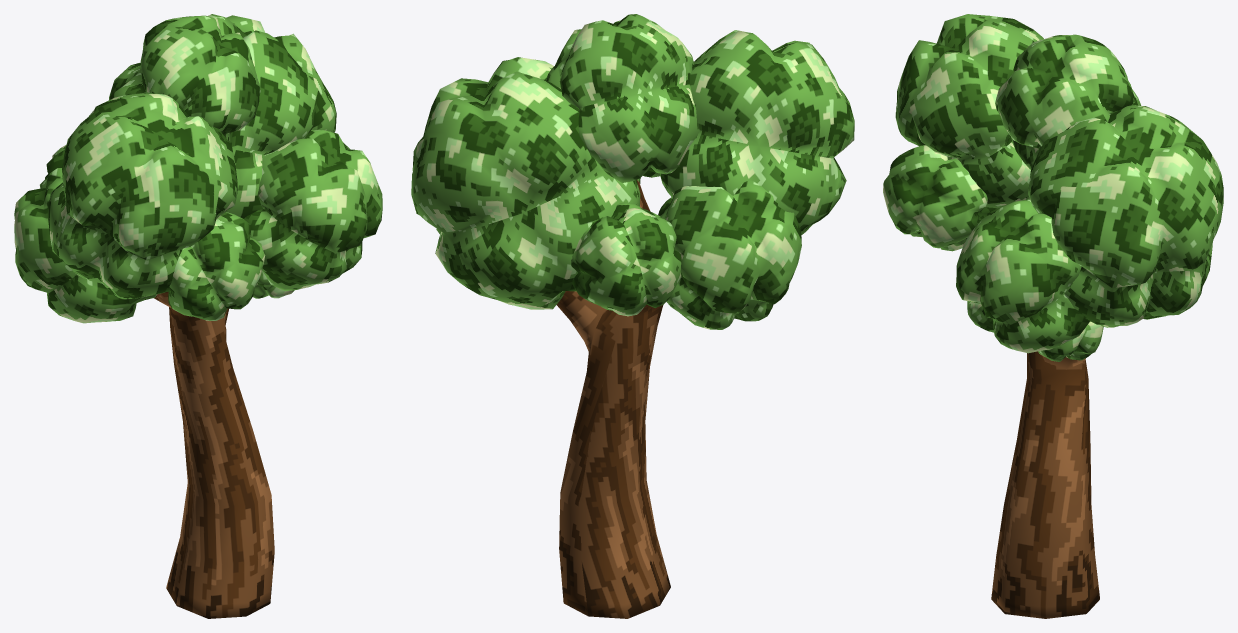
Rendered from (Old)Tree 1.fbx.
3 renders of one model, left to right at view 1: azimuth 30°, elevation 25°; view 2: azimuth 150°, elevation 25°; view 3: azimuth 270°, elevation 25°, orthographic. The views are drawn at different scales.
Parts seen in each view (by area): view 1: Tree_Combined; view 2: Tree_Combined; view 3: Tree_Combined.
Boxes of the visible parts, <box> form: Tree_Combined: <box>14,14,382,618</box>; Tree_Combined: <box>411,14,854,618</box>; Tree_Combined: <box>883,14,1223,618</box>.
Size of the model in its own units: 84.85 by 137 by 76.65.
1 material, 1 textured.
